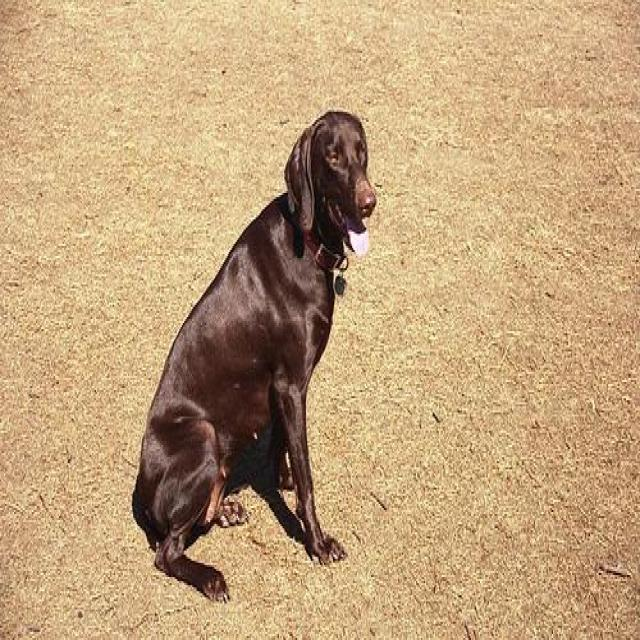vizsla: (133, 108, 380, 603)
